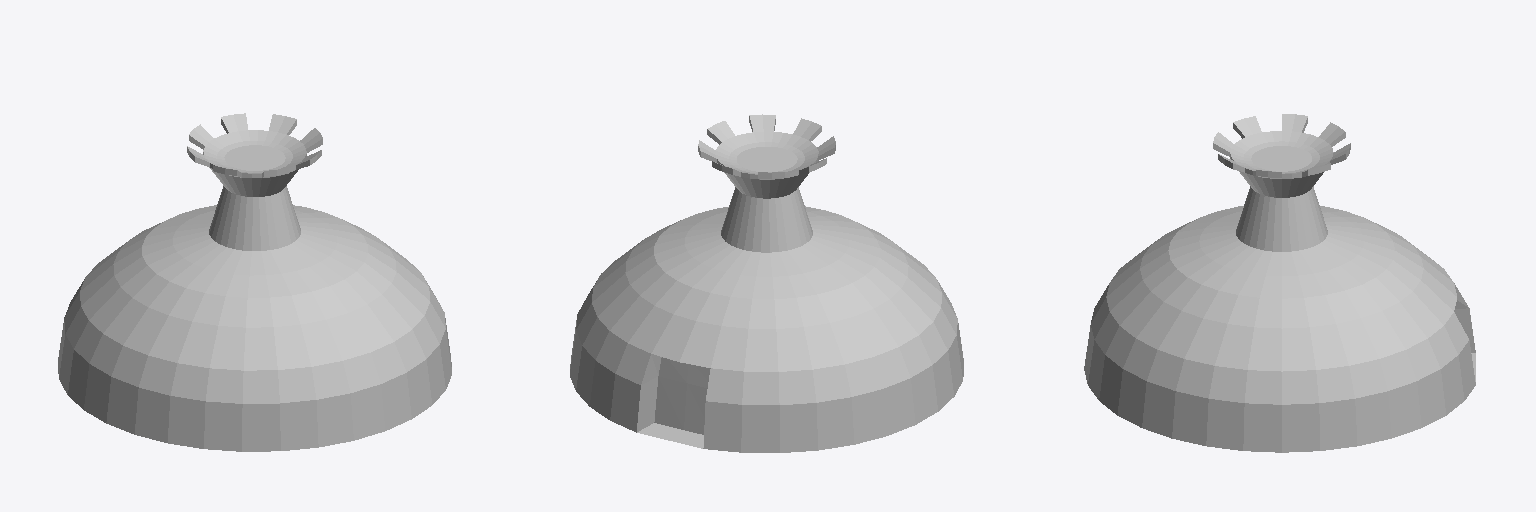
Rendered from map_base.obj.
3 views of the same model, side by side, from view 1: azimuth 30°, elevation 25°; view 2: azimuth 150°, elevation 25°; view 3: azimuth 270°, elevation 25° (orthographic).
Visible parts, largest first — view 1: Cylinder; view 2: Cylinder; view 3: Cylinder.
Boxes of the visible parts, x1,y1,x2,y2 form: Cylinder: [58, 113, 451, 451]; Cylinder: [570, 114, 963, 452]; Cylinder: [1084, 114, 1475, 452].
Bounding box in the file's own units: 80 × 50.5 × 79.23.